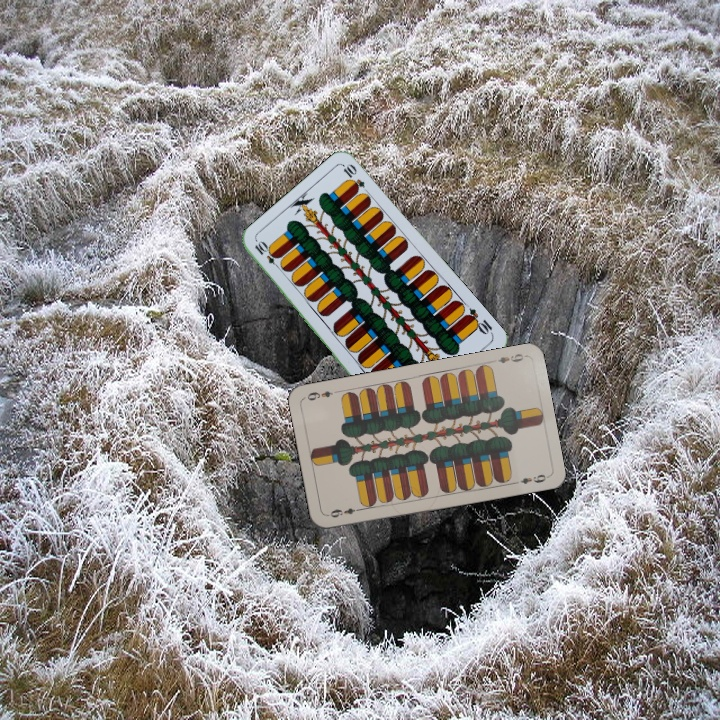E10: (461, 304, 496, 338), (251, 237, 284, 272)
E9: (487, 349, 526, 366), (326, 504, 364, 520)
